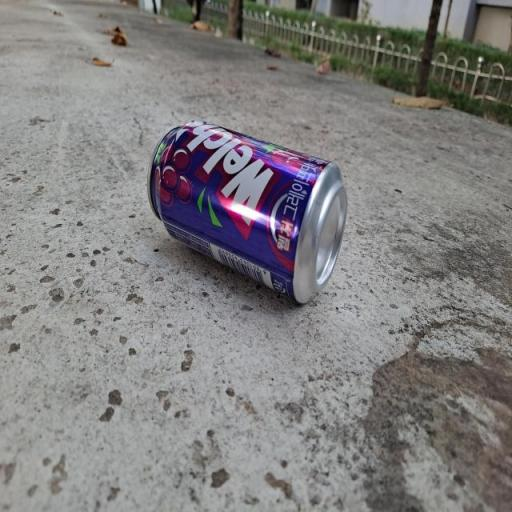metal: (134, 95, 354, 308)
